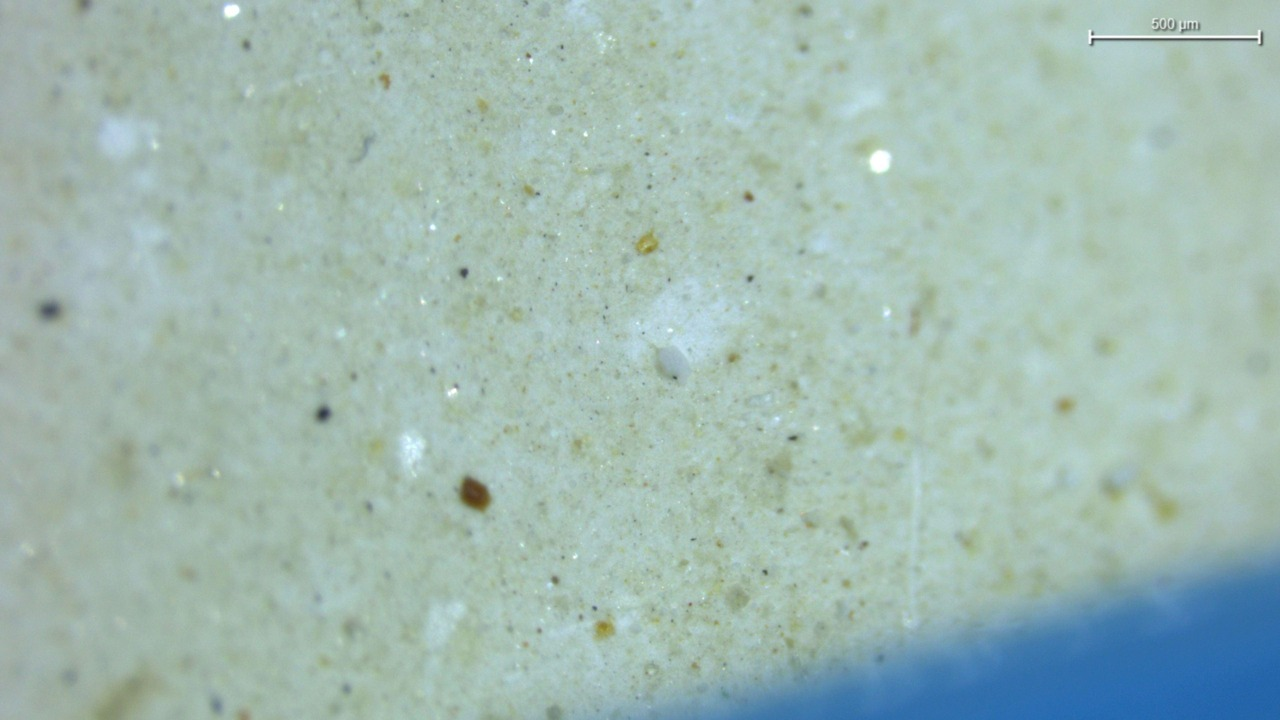microplastic_fragment: (658, 346, 690, 380)
